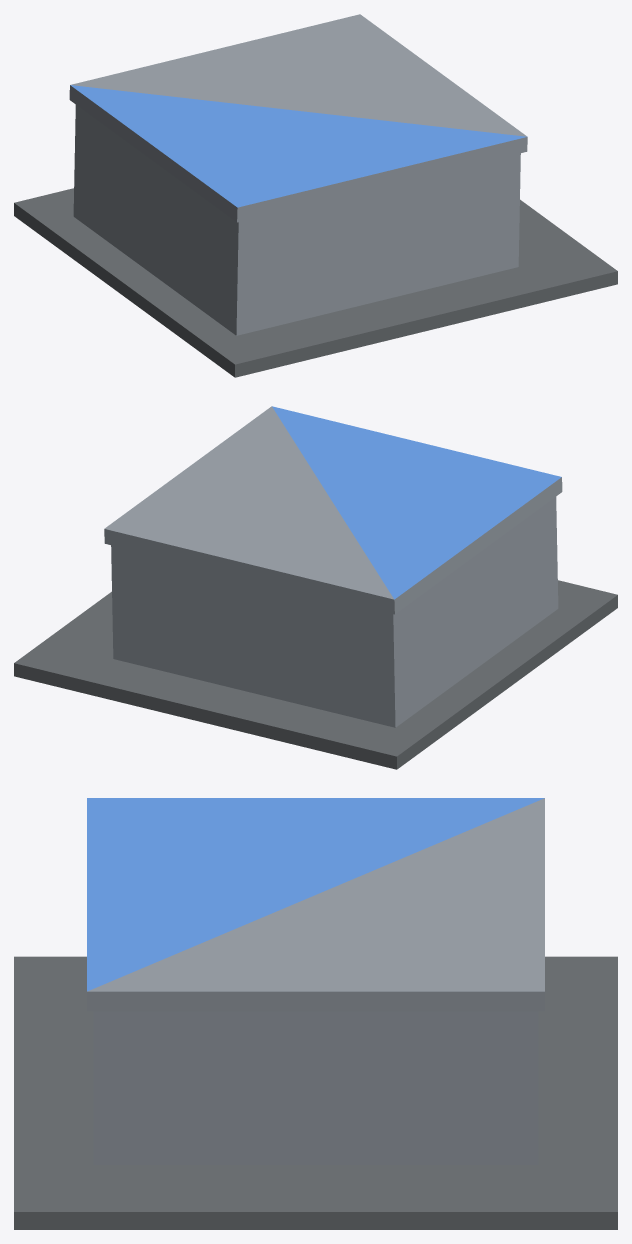
Rendered from veyran_fortified_bunker_damaged.glb.
3 views of the same model, one above another, from view 1: azimuth 30°, elevation 25°; view 2: azimuth 150°, elevation 25°; view 3: azimuth 270°, elevation 25° (orthographic). The views are drawn at different scales.
Parts seen in each view (by area): view 1: hull; view 2: hull; view 3: hull.
Part boxes in pixels (box(x1,y1,x2,y2)): hull: box(14, 14, 617, 377); hull: box(14, 406, 617, 769); hull: box(14, 798, 617, 1229).
Size of the model in its own units: 7.6 by 2.72 by 7.6.
